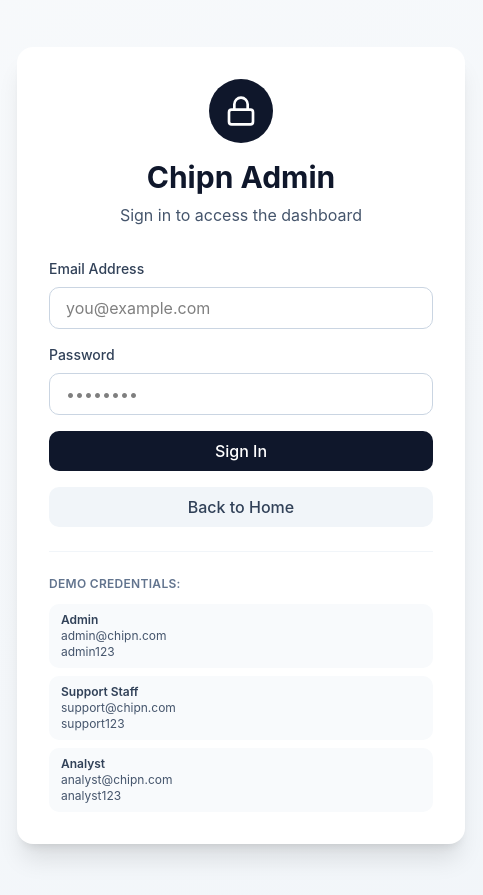
Test case: AdminLoginPage › shows error when password is empty
In the field with placeholder "you@example.com": (241, 308) [49,286,433,328], type "admin@chipn.com"
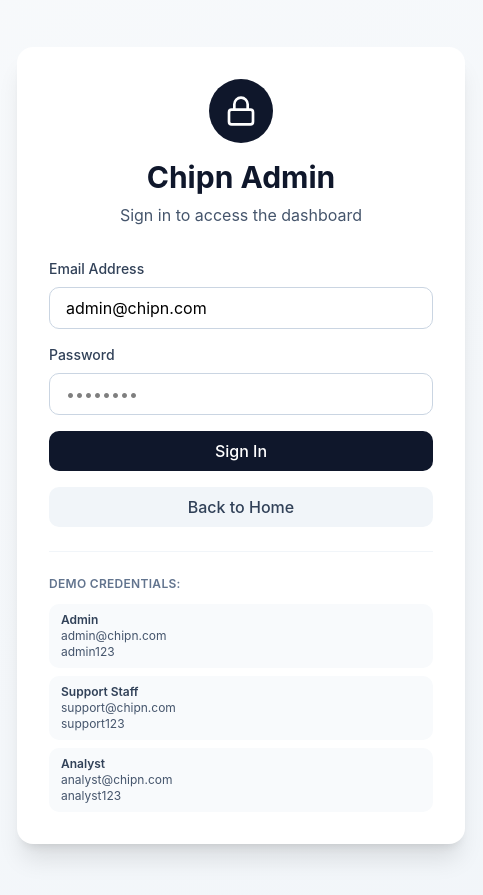
Click the button "Sign In": (241, 450) [49,430,433,470]
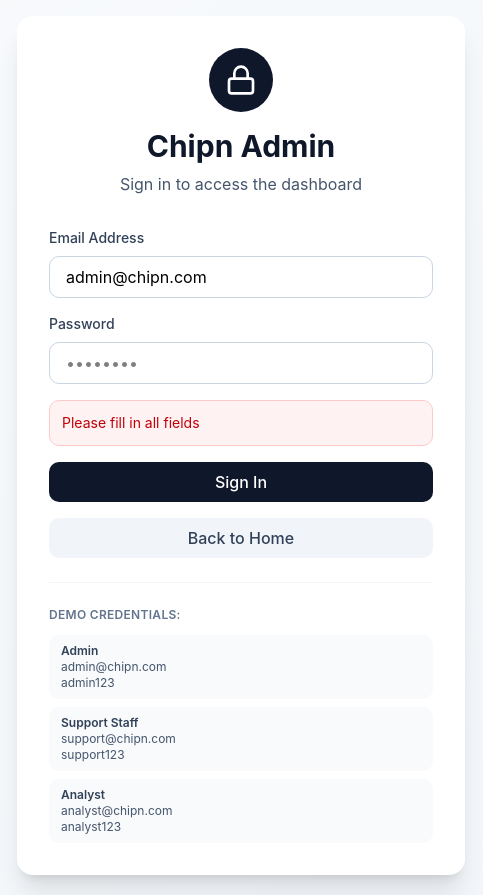
Expected: the text "Please fill in all fields" is shown, [62,414,200,430]
